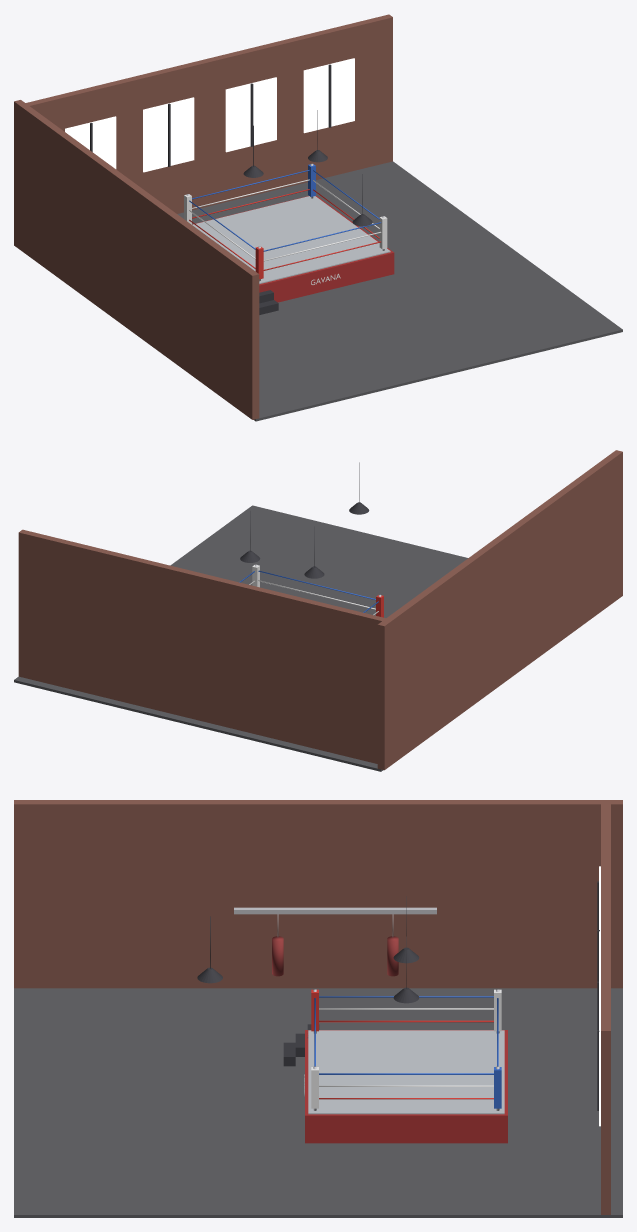
The model's file is gym.glb.
3 views of the same model, one above another, from view 1: azimuth 30°, elevation 25°; view 2: azimuth 150°, elevation 25°; view 3: azimuth 270°, elevation 25° (orthographic). The views are drawn at different scales.
Visible parts, largest first — view 1: Floor, LeftWall, BackWall, RingCanvas, RingDeck, Window1, Window3, Window2, Window0; view 2: BackWall, LeftWall, Floor; view 3: Floor, LeftWall, RingCanvas, RingDeck, BackWall, RackBeam.
Boxes of the visible parts, x1,y1,x2,y2 form: Floor: (177,161,622,421); LeftWall: (14,100,259,419); BackWall: (26,14,392,213); RingCanvas: (192,196,390,283); RingDeck: (192,195,394,302); Window1: (143,97,194,172); Window3: (303,58,354,133); Window2: (225,77,276,152); Window0: (65,116,116,168); BackWall: (18,529,389,763); LeftWall: (377,450,622,770); Floor: (14,505,467,771); Floor: (14,988,622,1217); LeftWall: (14,800,622,988); RingCanvas: (308,1030,504,1114); RingDeck: (305,1030,507,1143); BackWall: (601,802,610,1214); RackBeam: (234,907,436,914).
Size of the model in its own units: 16.15 by 6.1 by 18.
